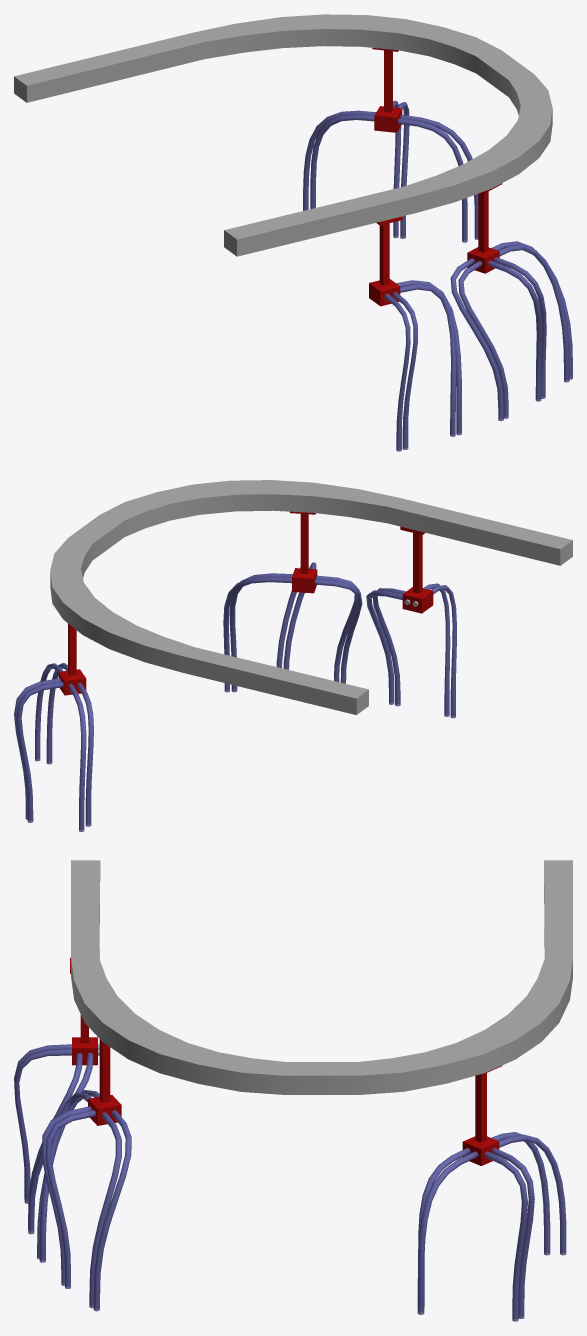
Rendered from pipe_distributor4.fbx.
3 views of the same model, one above another, from view 1: azimuth 30°, elevation 25°; view 2: azimuth 150°, elevation 25°; view 3: azimuth 270°, elevation 25° (orthographic). The views are drawn at different scales.
Parts seen in each view (by area): view 1: pipe_distributor4; view 2: pipe_distributor4; view 3: pipe_distributor4.
Part boxes in pixels (bbox=[...]): pipe_distributor4: bbox=[14, 14, 572, 451]; pipe_distributor4: bbox=[14, 480, 572, 831]; pipe_distributor4: bbox=[14, 860, 572, 1321].
Bounding box in the file's own units: 9.74 × 5.4 × 10.52.
